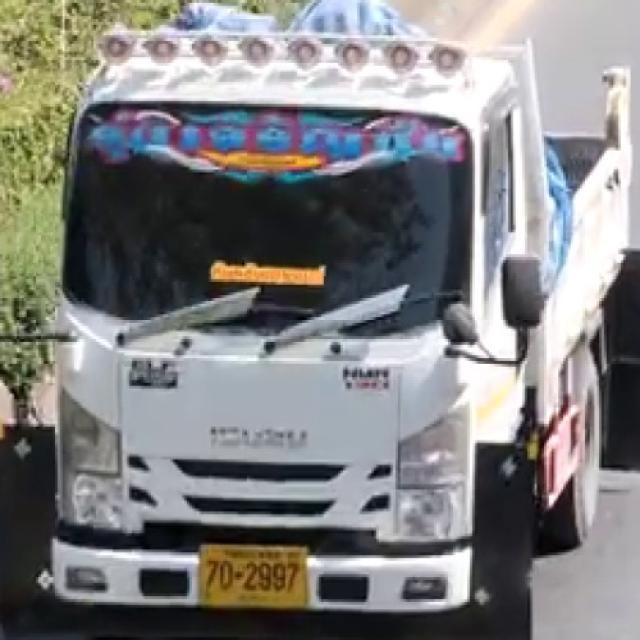plate: (196, 541, 309, 611)
